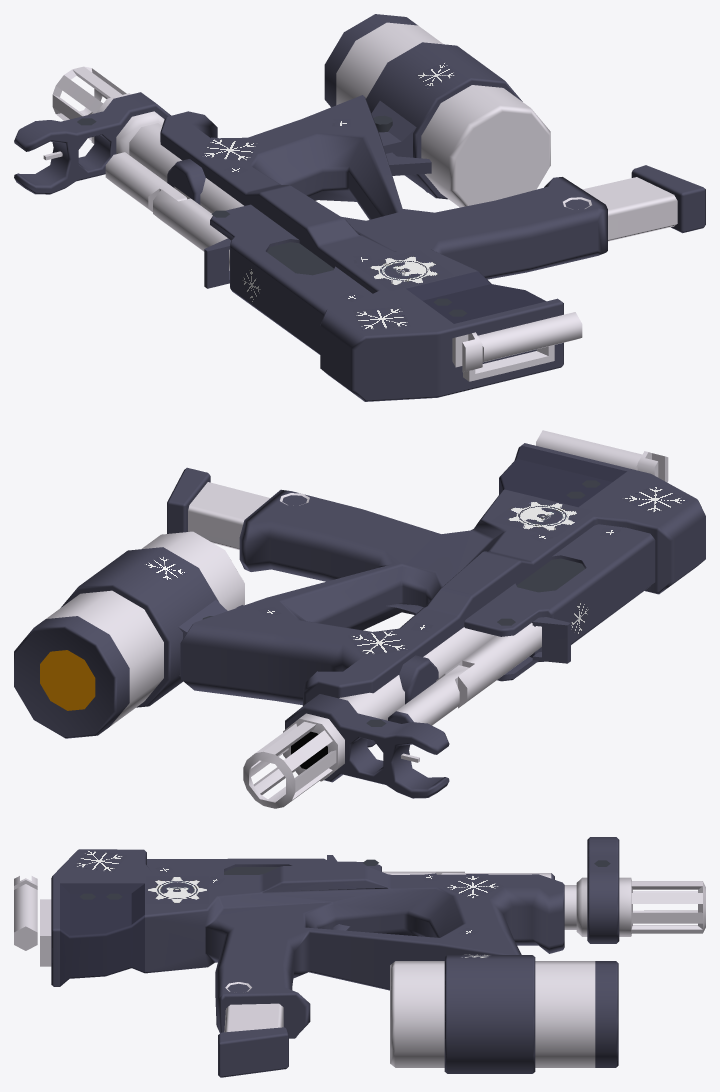
File: nodoka.glb
The picture shows the model from 3 angles, top to bottom: view 1: azimuth 30°, elevation 25°; view 2: azimuth 150°, elevation 25°; view 3: azimuth 270°, elevation 25°; orthographic projection. The views are drawn at different scales.
Visible parts, largest first — view 1: Nodoka_Original_Weapon; view 2: Nodoka_Original_Weapon; view 3: Nodoka_Original_Weapon.
Boxes of the visible parts, x1,y1,x2,y2 form: Nodoka_Original_Weapon: (14, 14, 705, 401); Nodoka_Original_Weapon: (14, 430, 705, 808); Nodoka_Original_Weapon: (14, 837, 705, 1077).
Size of the model in its own units: 0.2664 by 0.0675 by 0.3837.
1 material, 1 textured.
